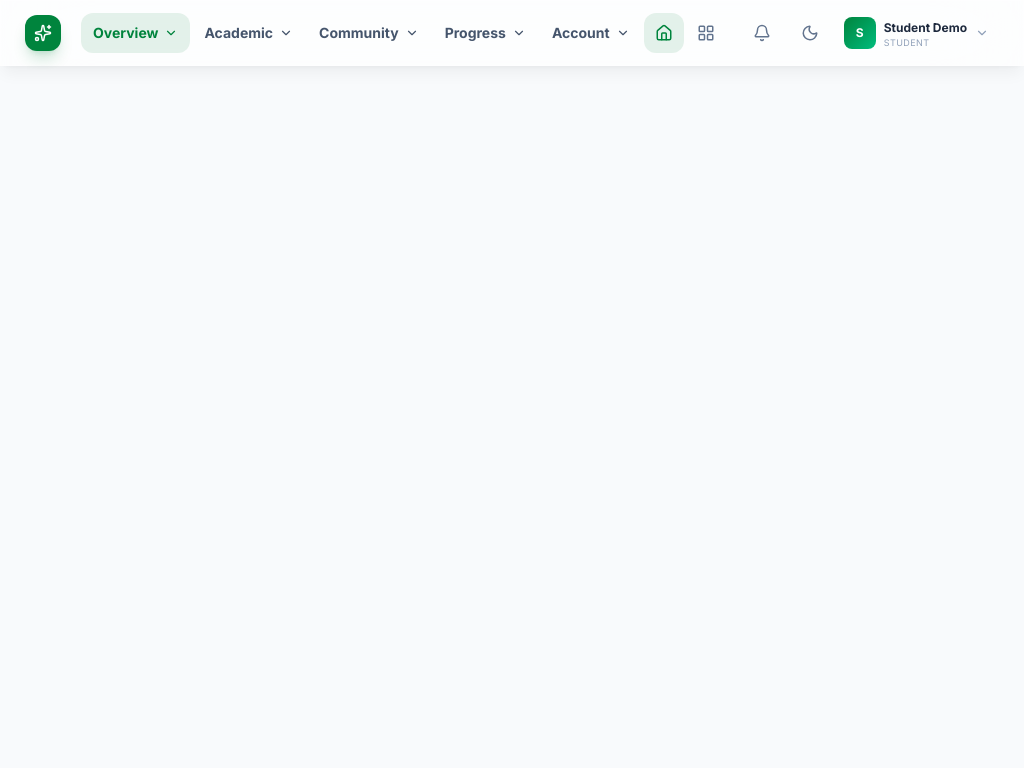
Scenario: TopNavbar (desktop) › opens a category dropdown with its destinations
Click the button "Academic": x=249, y=33 [192,13,305,53]
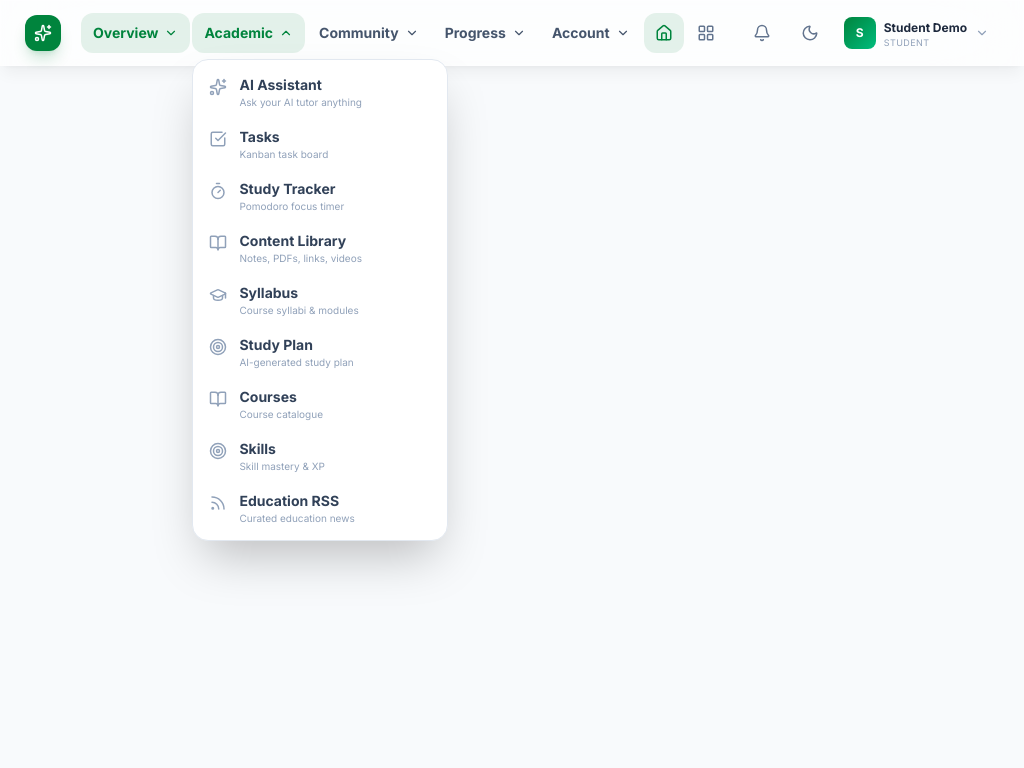
Expected: the menu item "Tasks Kanban task board" is shown, [199,118,441,170]
Expected: the menu item "Study Tracker Pomodoro focus timer" is shown, [199,170,441,222]
Expected: the menu item "Education RSS Curated education news" is shown, [199,482,441,534]
